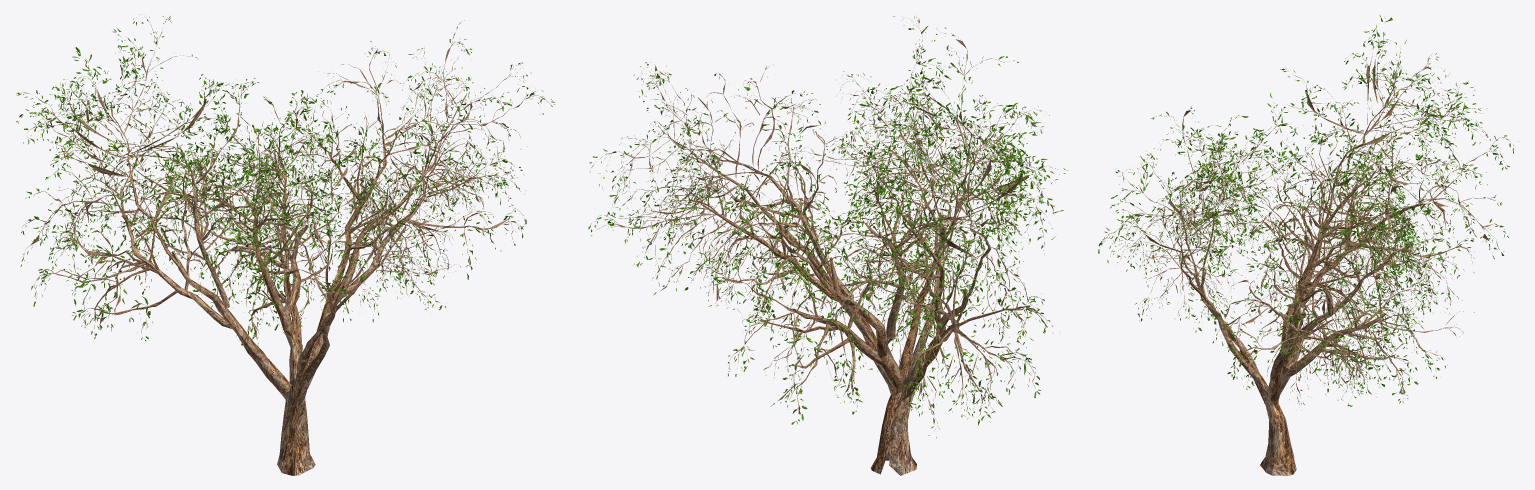
The model's file is quishuar.glb.
3 renders of one model, left to right at view 1: azimuth 30°, elevation 25°; view 2: azimuth 150°, elevation 25°; view 3: azimuth 270°, elevation 25°, orthographic. The views are drawn at different scales.
Parts seen in each view (by area): view 1: quishuar; view 2: quishuar; view 3: quishuar.
Boxes of the visible parts, x1,y1,x2,y2 form: quishuar: [16, 14, 554, 475]; quishuar: [588, 14, 1068, 475]; quishuar: [1098, 15, 1513, 475].
Size of the model in its own units: 14.73 by 12.87 by 12.98.
Materials: 8 (8 with a texture image).
